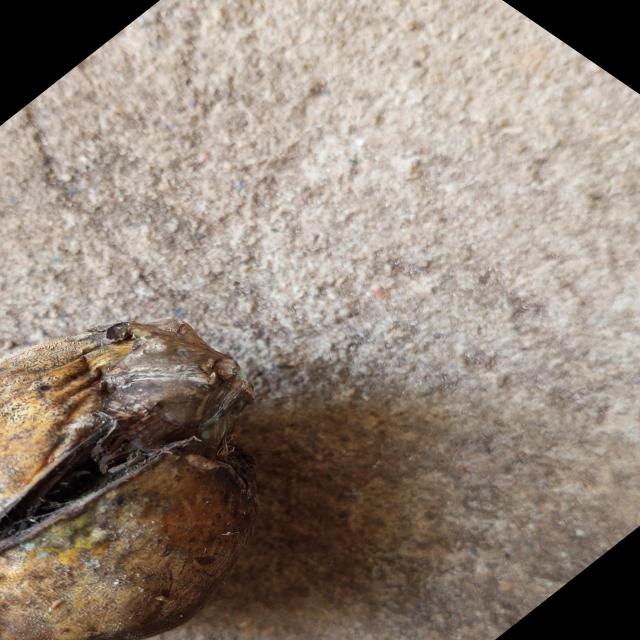damaged: (0, 320, 257, 640)
